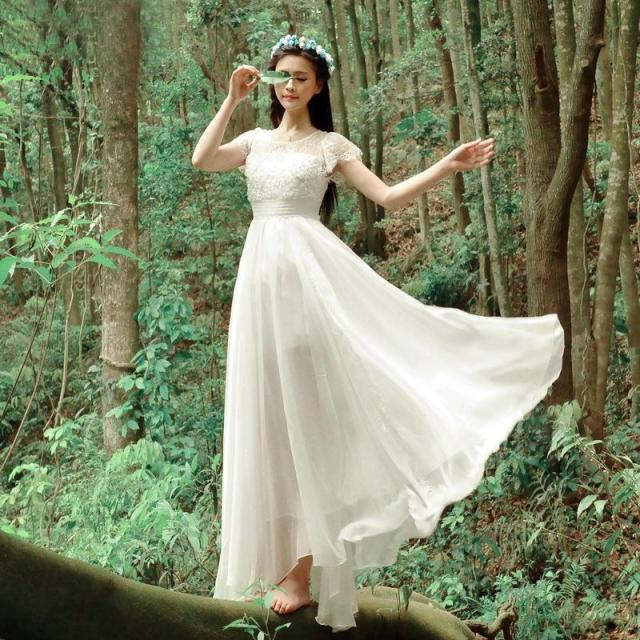short sleeve dress: (214, 129, 556, 610)
